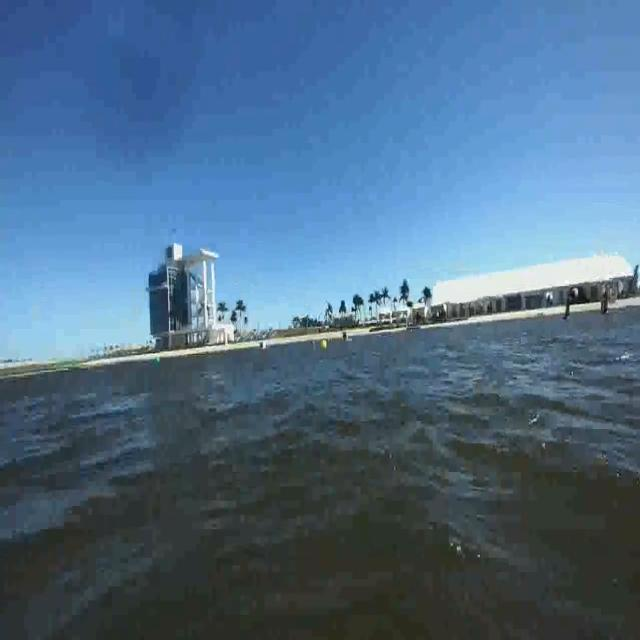yellow-buoy: (321, 339, 328, 352)
